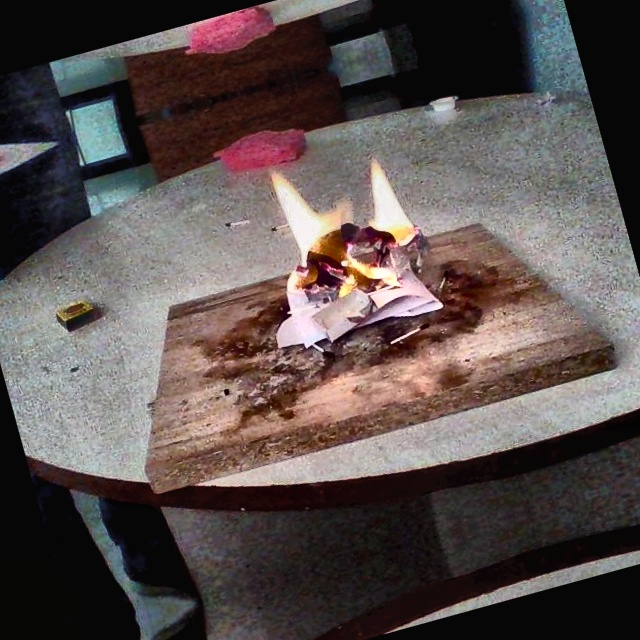fire: (220, 102, 477, 355)
